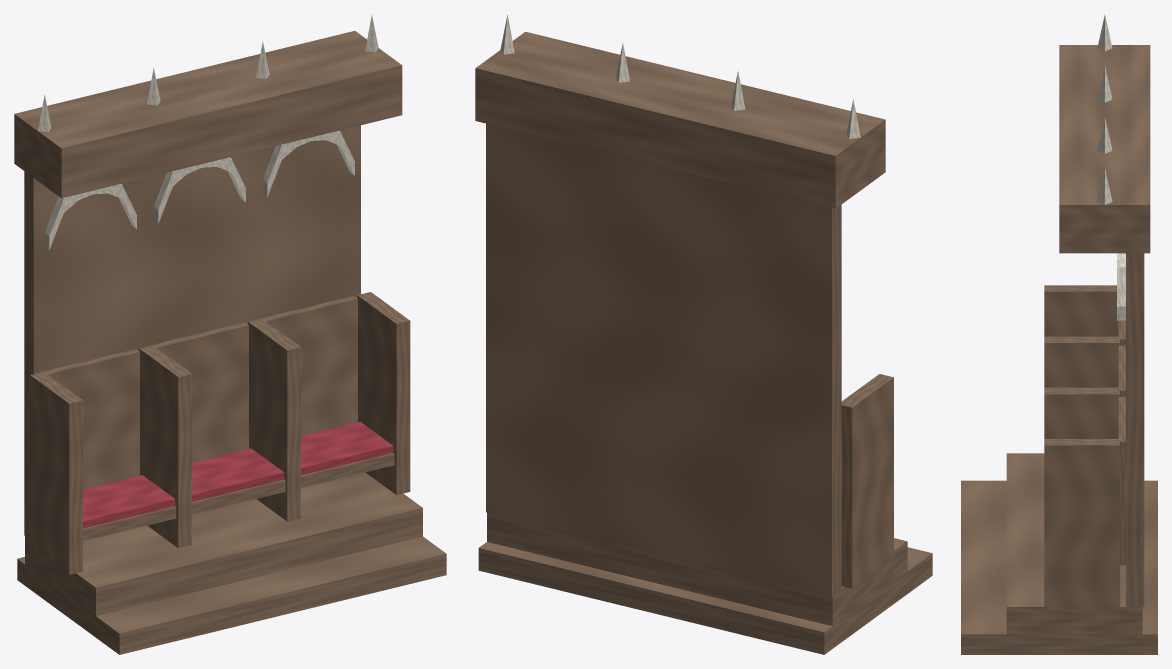
3 renders of one model, left to right at view 1: azimuth 30°, elevation 25°; view 2: azimuth 150°, elevation 25°; view 3: azimuth 270°, elevation 25°, orthographic. The views are drawn at different scales.
Parts seen in each view (by area): view 1: choir-stall; view 2: choir-stall; view 3: choir-stall.
Part boxes in pixels (x1,y1,x2,y2): choir-stall: [14, 14, 446, 654]; choir-stall: [475, 15, 932, 654]; choir-stall: [961, 15, 1157, 654].
Size of the model in its own units: 2.5 by 3.55 by 1.3.
Materials: 3 (3 with a texture image).
